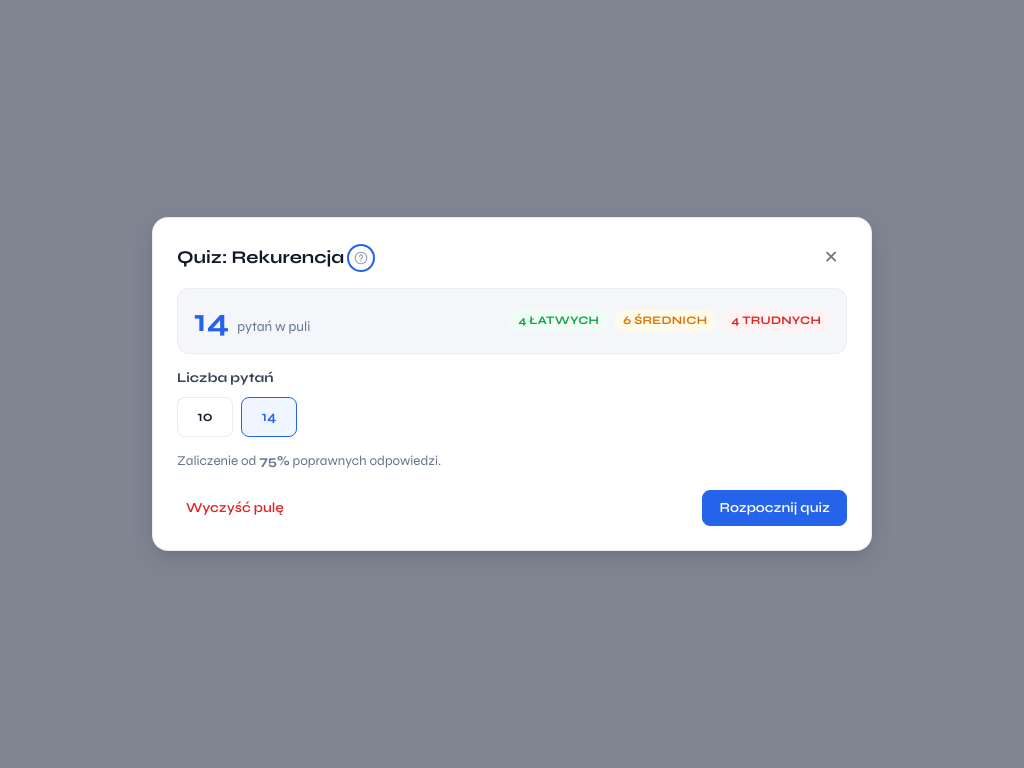
Test case: QuizRunner › fails below 75% and lets the user change settings
Check: the radio button labelled "14" is checked, box [241, 397, 297, 437]
Click the button "Rozpocznij quiz".
click(775, 508)  # box [702, 490, 847, 526]
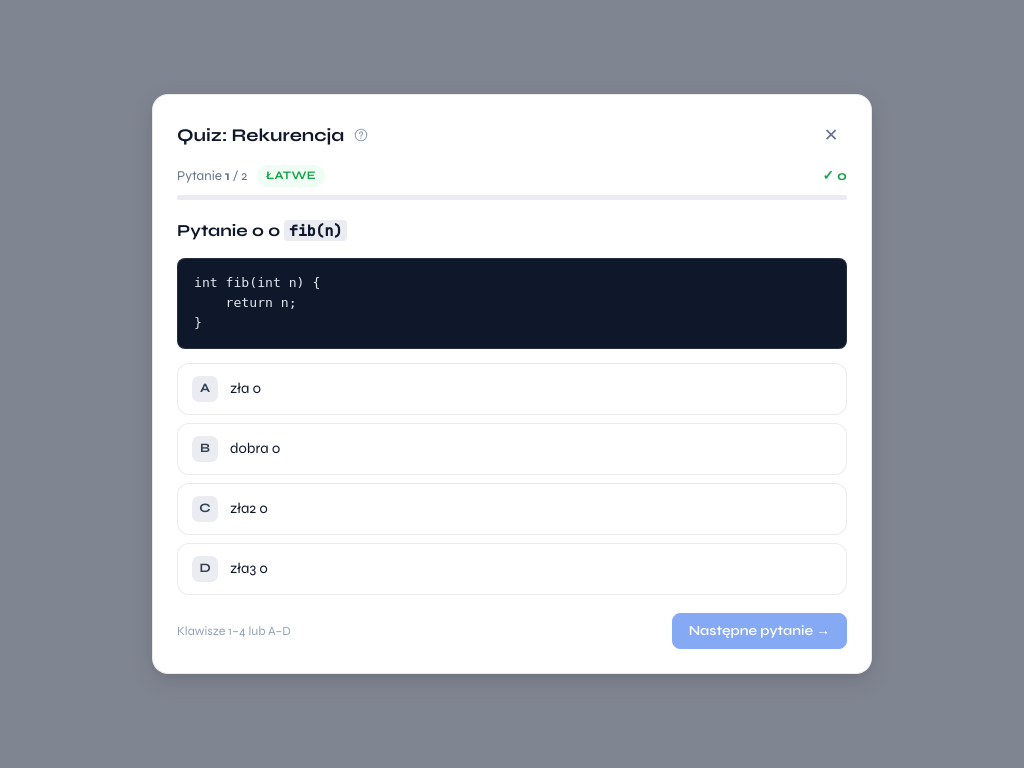
Type keys "a"
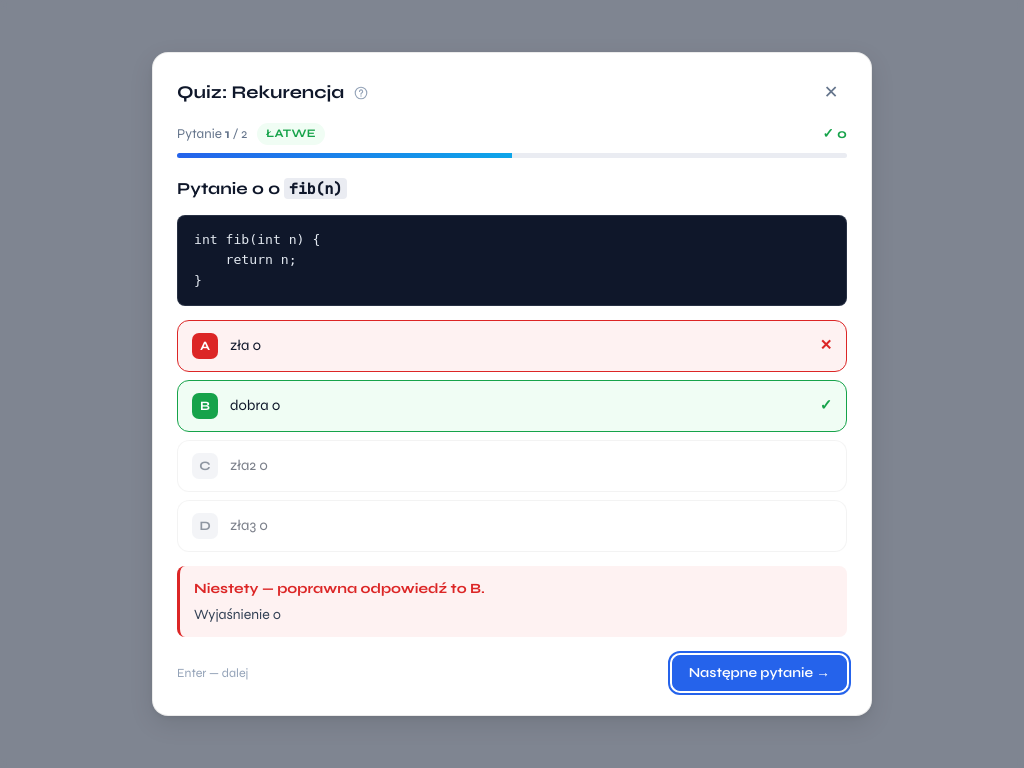
Press Enter
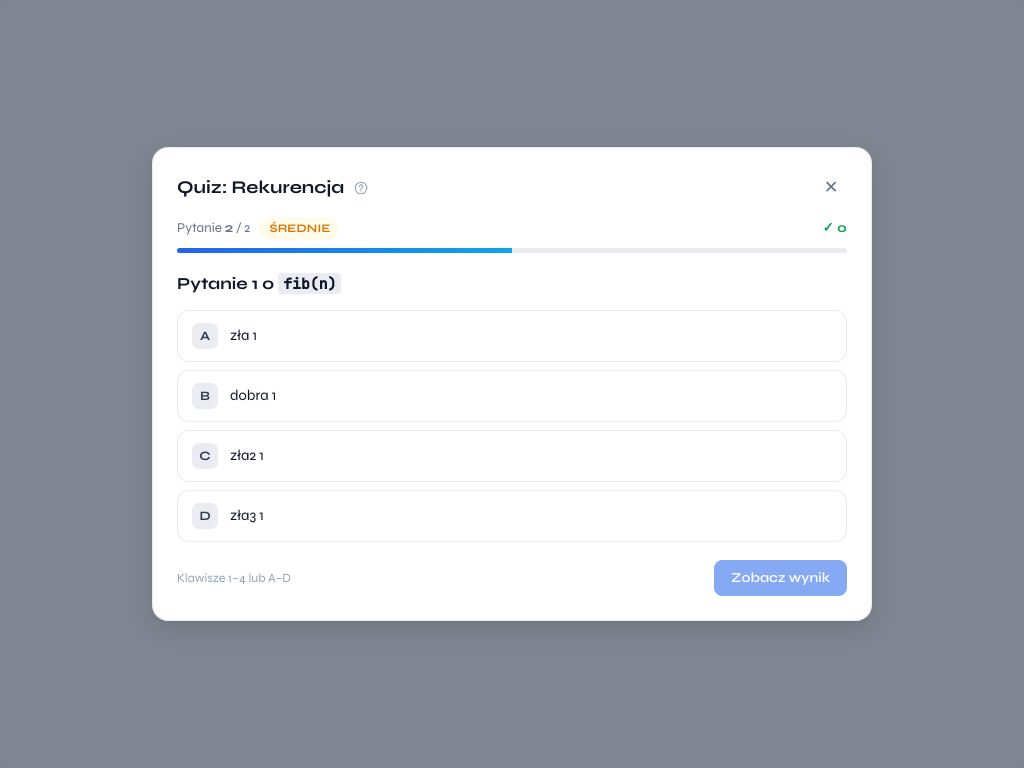
Type keys "4"
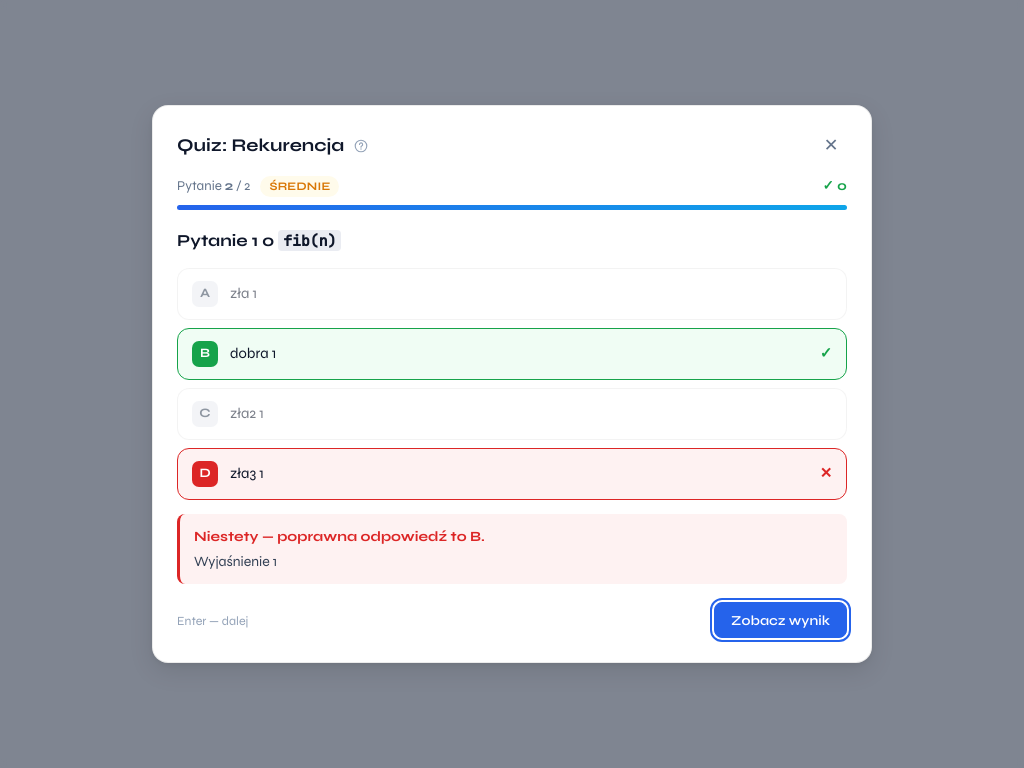
Press Enter
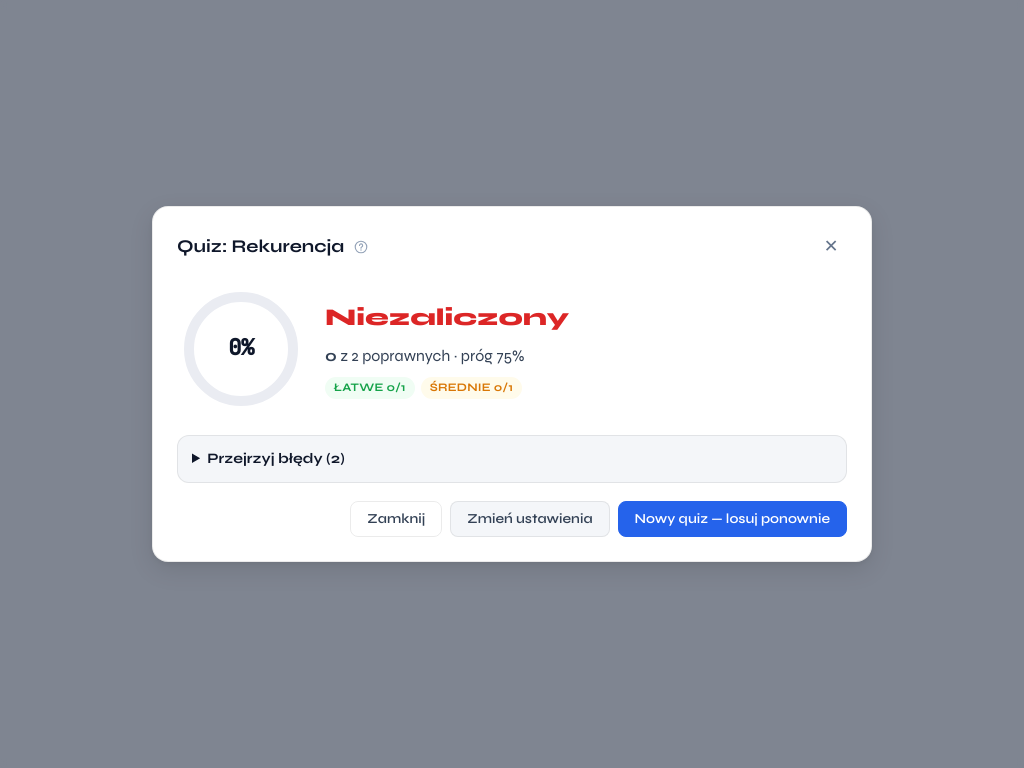
Check: the text "0%" is shown, box [228, 333, 256, 362]
Check: the text "Niezaliczony" is shown, box [325, 299, 569, 336]
Click the button "Zmień ustawienia".
click(530, 519)  # box [450, 501, 610, 537]
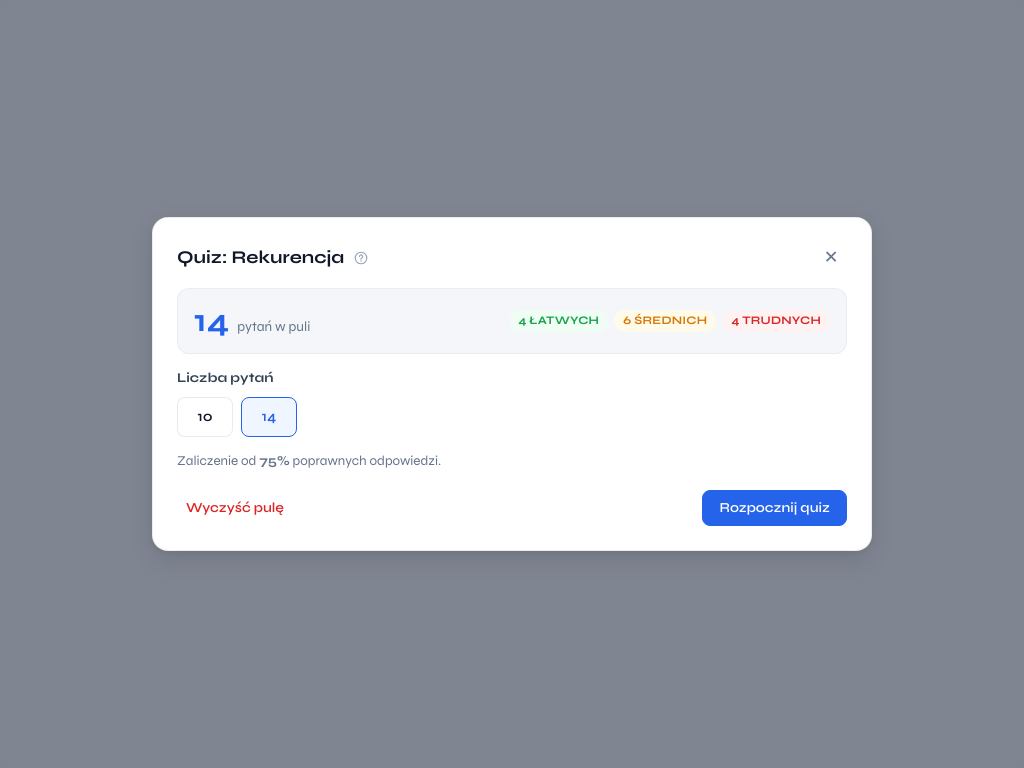
Check: the button "Rozpocznij quiz" is shown, box [702, 490, 847, 526]
